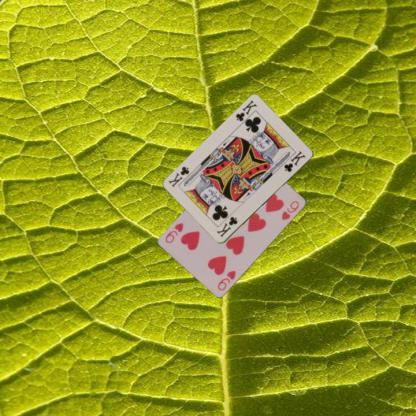9h: (215, 267, 237, 292)
Kc: (214, 214, 239, 239), (233, 98, 258, 123)
